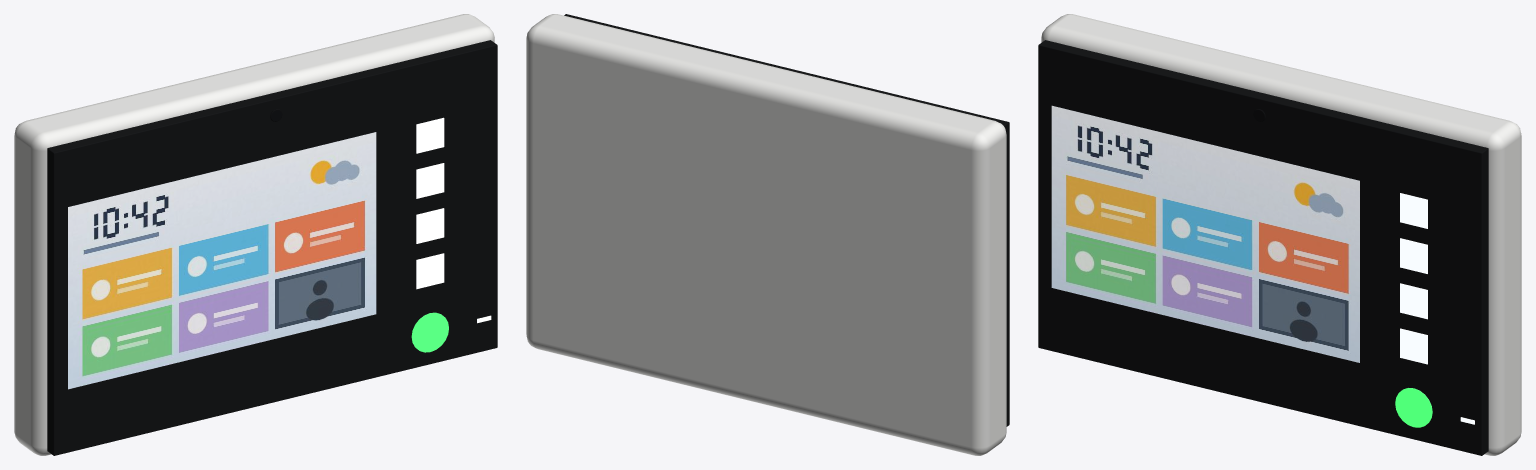
The model's file is wall_pad.glb.
3 views of the same model, side by side, from view 1: azimuth 30°, elevation 25°; view 2: azimuth 150°, elevation 25°; view 3: azimuth 330°, elevation 25° (orthographic).
Parts seen in each view (by area): view 1: wall_pad_glass, wall_pad_screen, wall_pad_body, wall_pad_keys; view 2: wall_pad_body, wall_pad_glass; view 3: wall_pad_glass, wall_pad_screen, wall_pad_body, wall_pad_keys.
Part boxes in pixels (bbox=[...]): wall_pad_glass: bbox=[47, 40, 497, 455]; wall_pad_screen: bbox=[68, 132, 376, 389]; wall_pad_body: bbox=[14, 14, 494, 455]; wall_pad_keys: bbox=[411, 117, 491, 352]; wall_pad_body: bbox=[526, 14, 1006, 455]; wall_pad_glass: bbox=[564, 14, 1009, 426]; wall_pad_glass: bbox=[1038, 40, 1488, 455]; wall_pad_screen: bbox=[1051, 105, 1359, 362]; wall_pad_body: bbox=[1041, 14, 1521, 455]; wall_pad_keys: bbox=[1395, 193, 1474, 427].
Size of the model in its own units: 0.3 by 0.2 by 0.041.
Materials: 6 (1 with a texture image).
